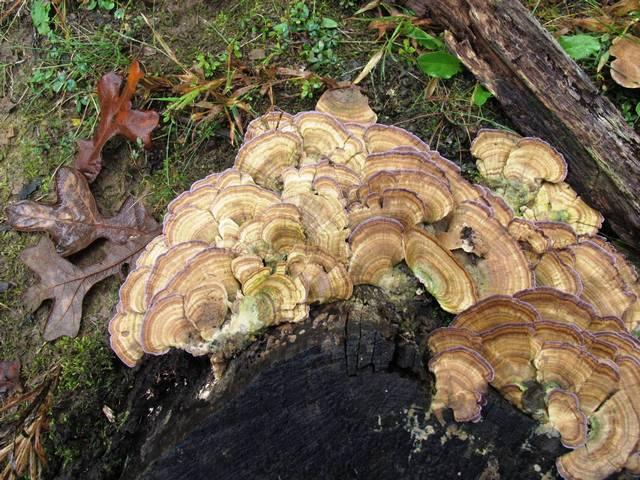poisonous_mushroom: (106, 85, 639, 478)
